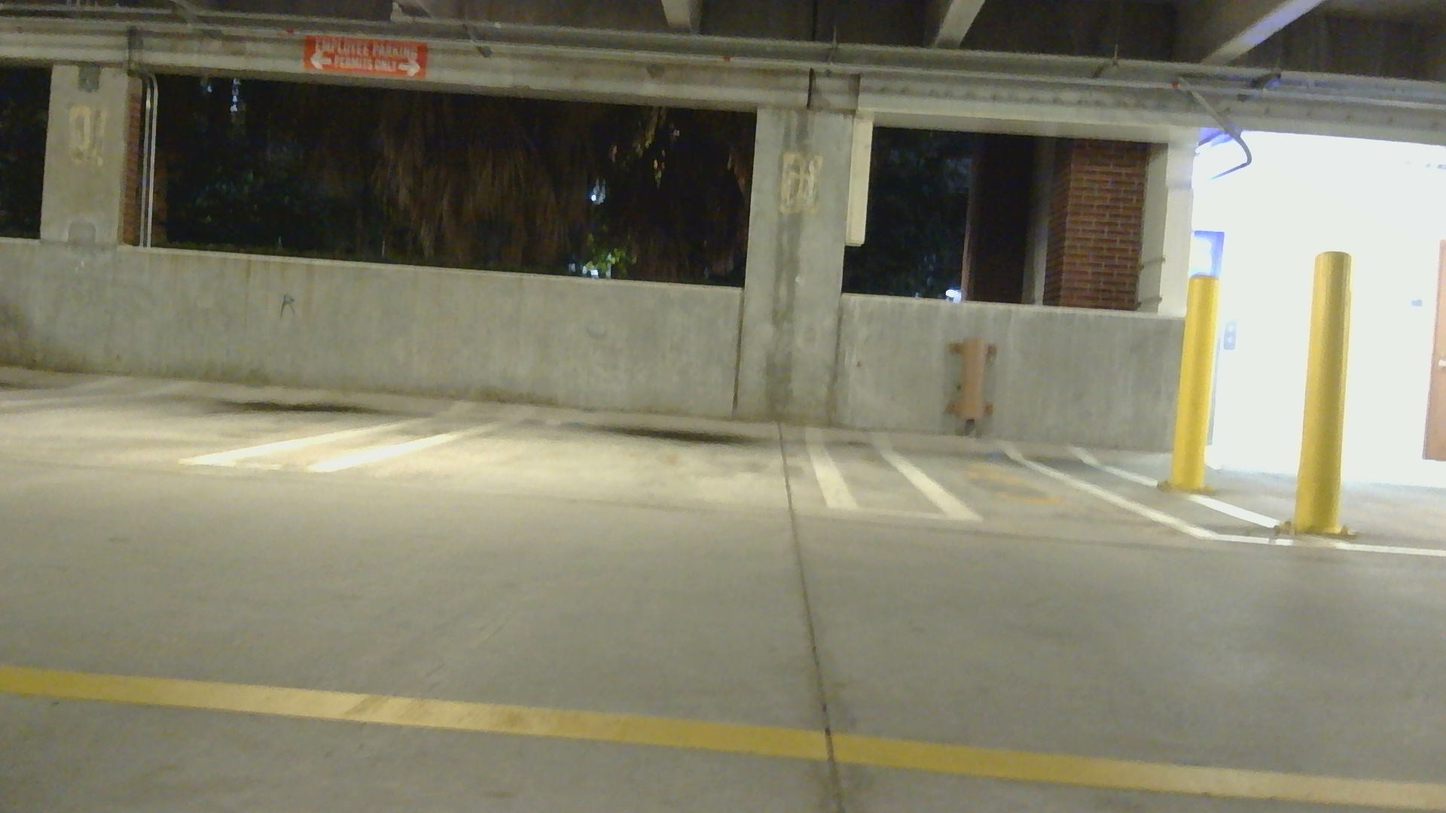empty_spot: (297, 303, 879, 516), (0, 301, 490, 469)
